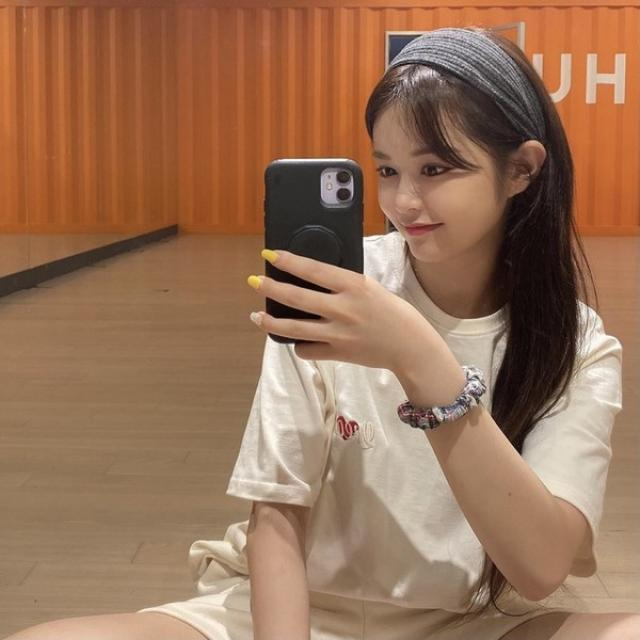phone: (264, 159, 364, 344)
